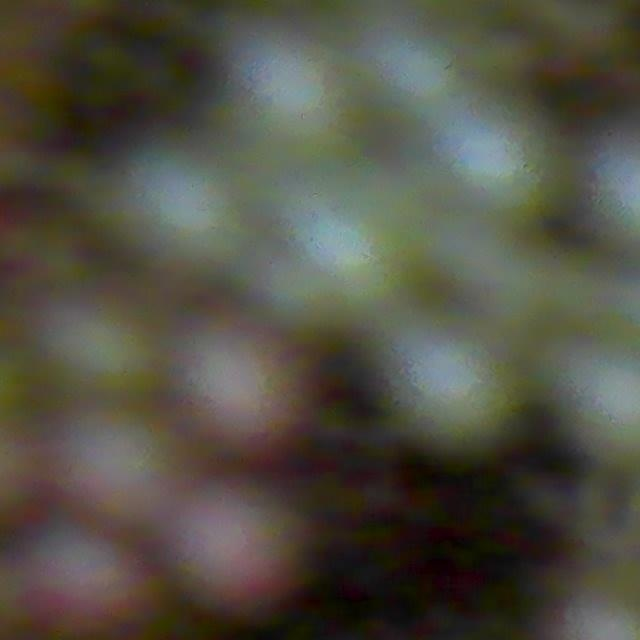SeaGrape: (59, 405, 179, 528), (178, 480, 298, 603), (173, 329, 293, 452), (285, 200, 406, 318), (131, 148, 244, 270), (400, 332, 511, 447), (34, 529, 141, 633), (251, 48, 346, 147), (437, 129, 546, 214), (570, 350, 640, 462)
